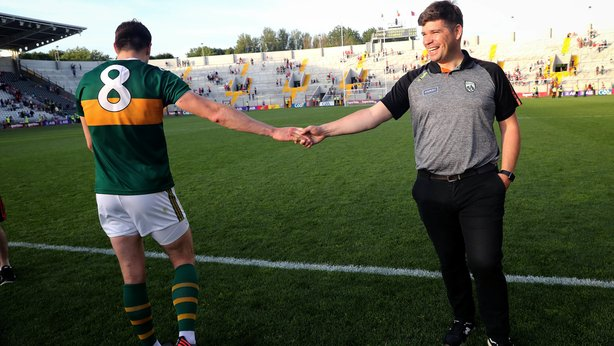player: (390, 0, 525, 324), (79, 23, 218, 312)
